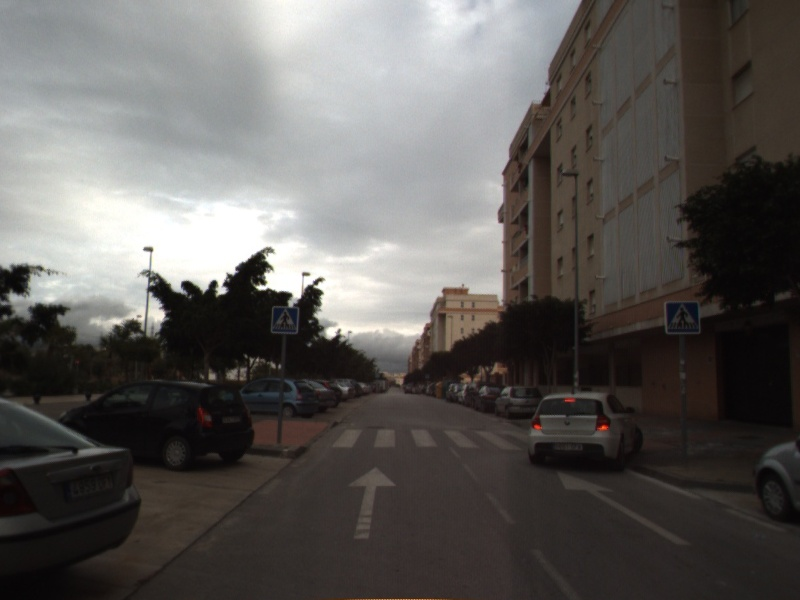STRAIGHT: (556, 470, 693, 547), (346, 464, 399, 541)
